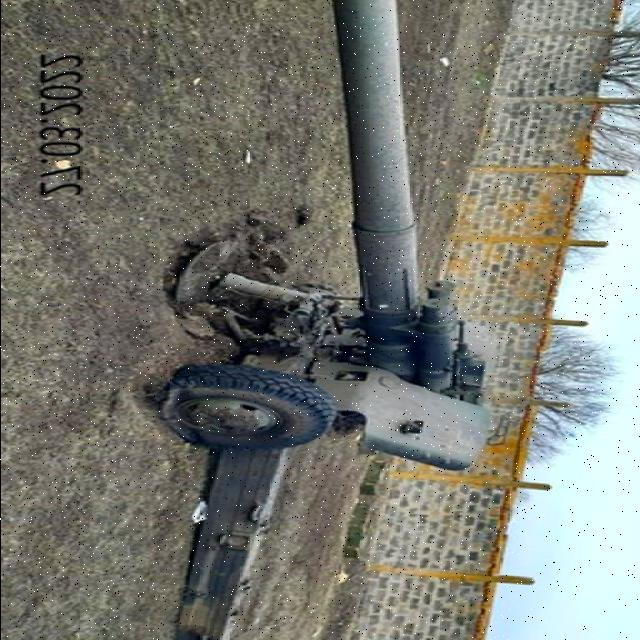ART: (143, 25, 507, 636)
